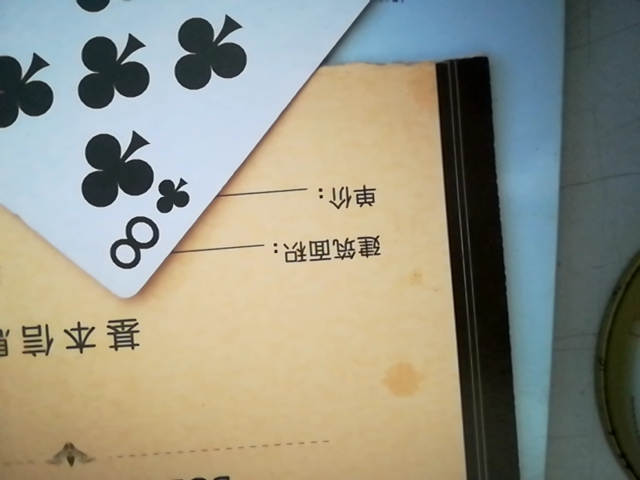mh 8: (3, 2, 406, 304)
